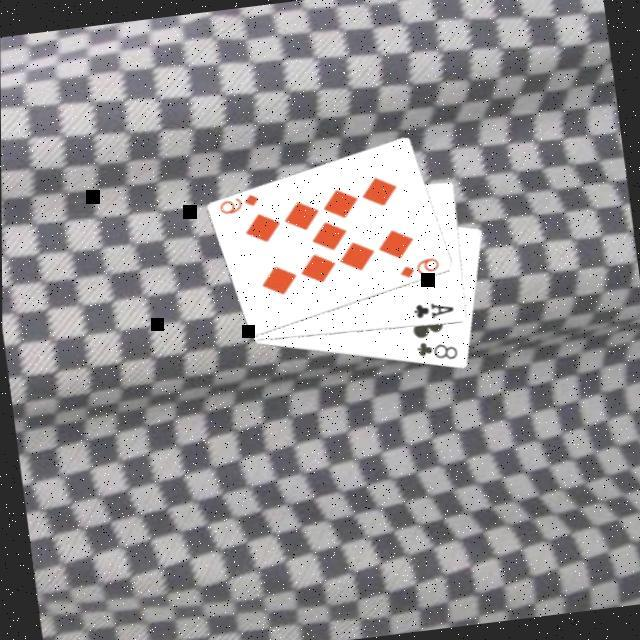8C: (410, 333, 459, 366)
9D: (392, 252, 441, 281), (212, 189, 260, 217)
AC: (408, 296, 454, 322)
